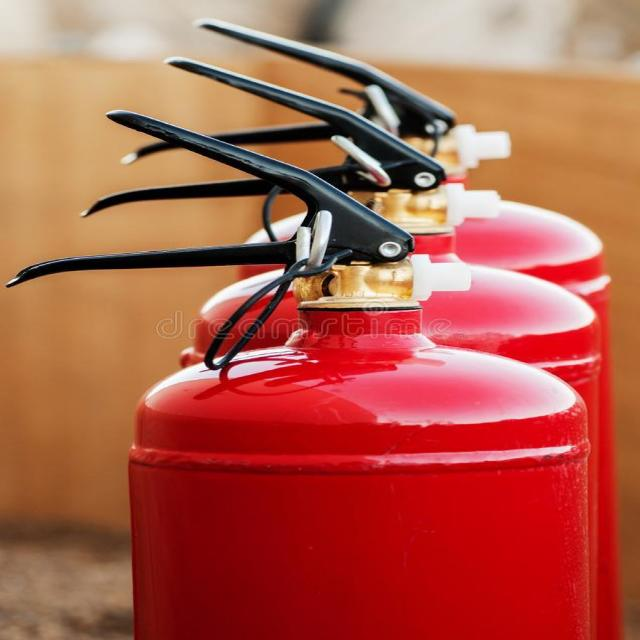fire_extinguisher: (69, 51, 625, 640), (112, 11, 626, 640), (7, 100, 599, 640)
